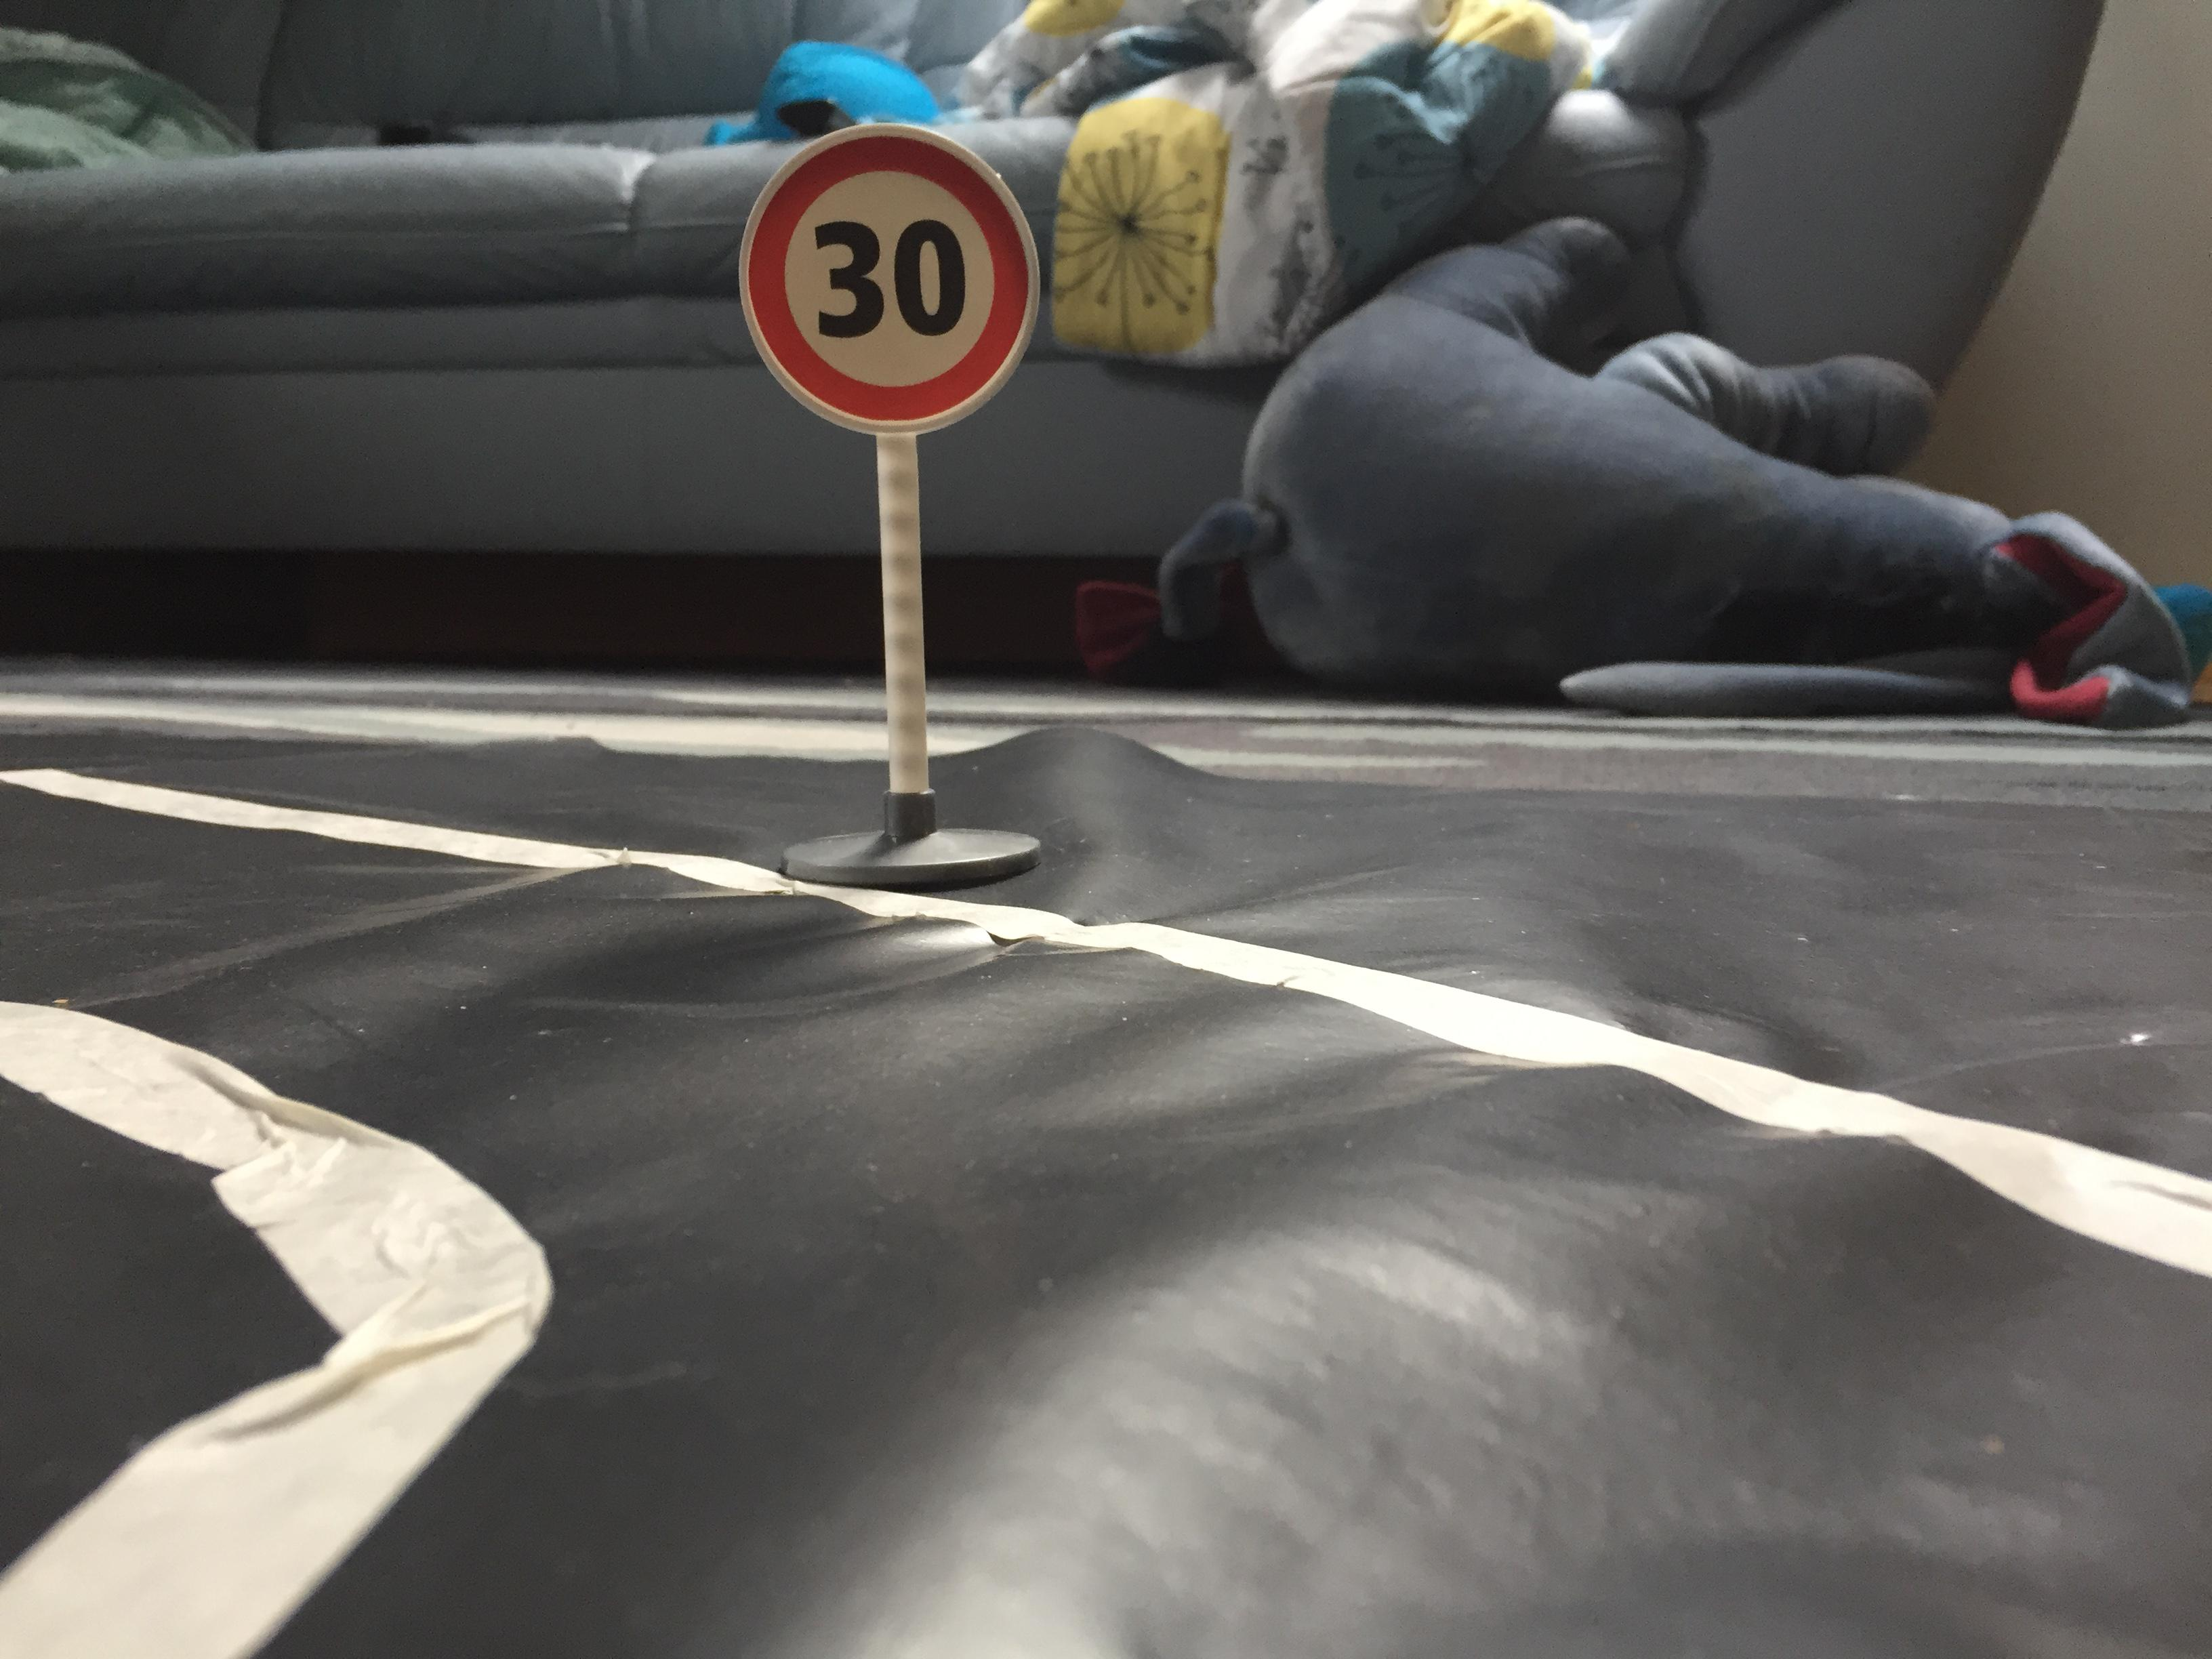speed: (730, 124, 1043, 443)
